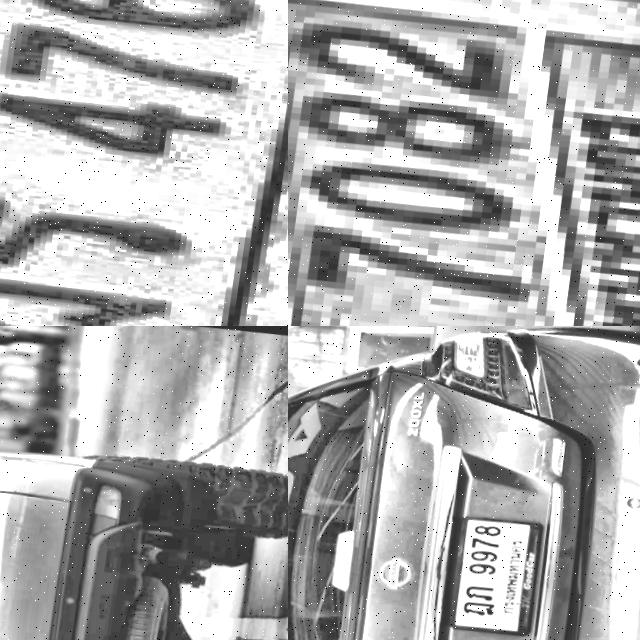license-plate: (288, 0, 640, 326), (0, 0, 288, 326), (440, 505, 553, 640)
